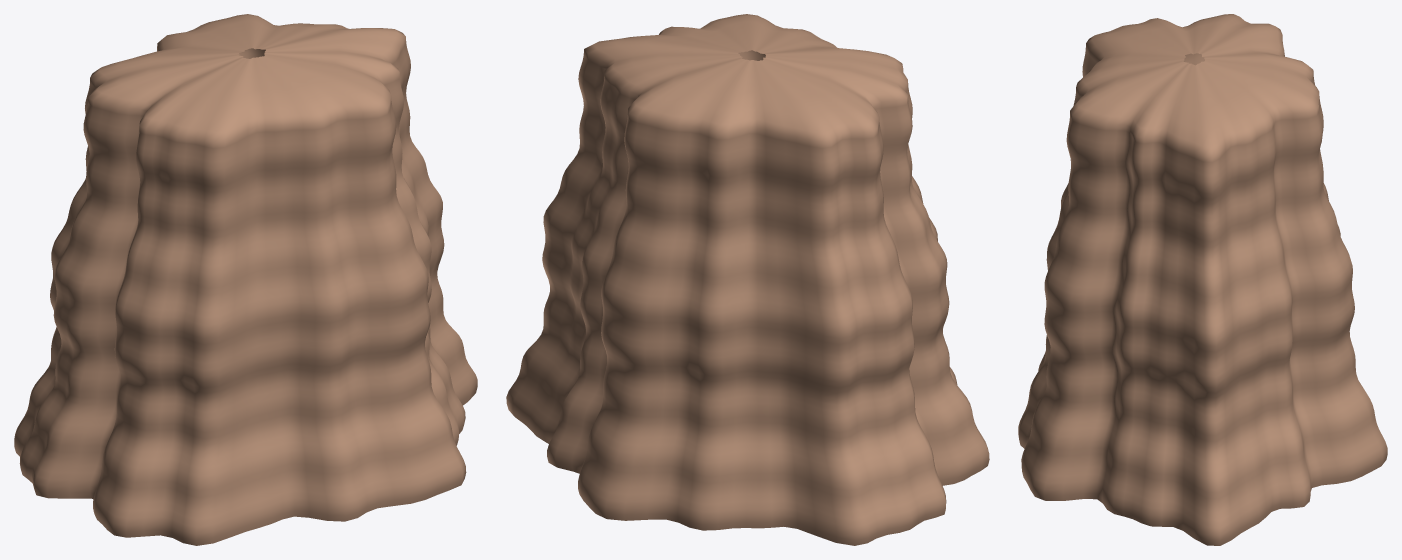
Rendered from mesa_sculpt_1.glb.
3 renders of one model, left to right at view 1: azimuth 30°, elevation 25°; view 2: azimuth 150°, elevation 25°; view 3: azimuth 270°, elevation 25°, orthographic. The views are drawn at different scales.
Parts seen in each view (by area): view 1: Layered eroded mesa; view 2: Layered eroded mesa; view 3: Layered eroded mesa.
Boxes of the visible parts, x1,y1,x2,y2 form: Layered eroded mesa: (14,14,477,545); Layered eroded mesa: (506,14,989,545); Layered eroded mesa: (1018,14,1387,545).
Bounding box in the file's own units: 2.63 × 2.3 × 2.03.
